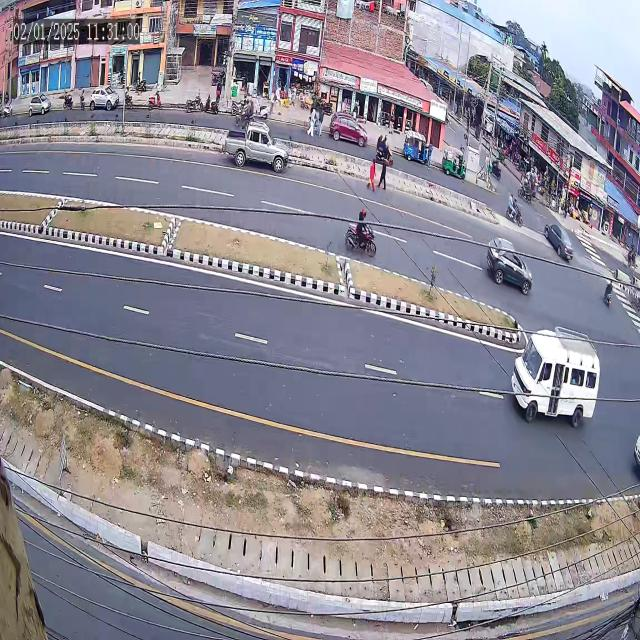car: (477, 231, 536, 301), (540, 211, 578, 269)
motorcycle: (338, 198, 384, 268)
